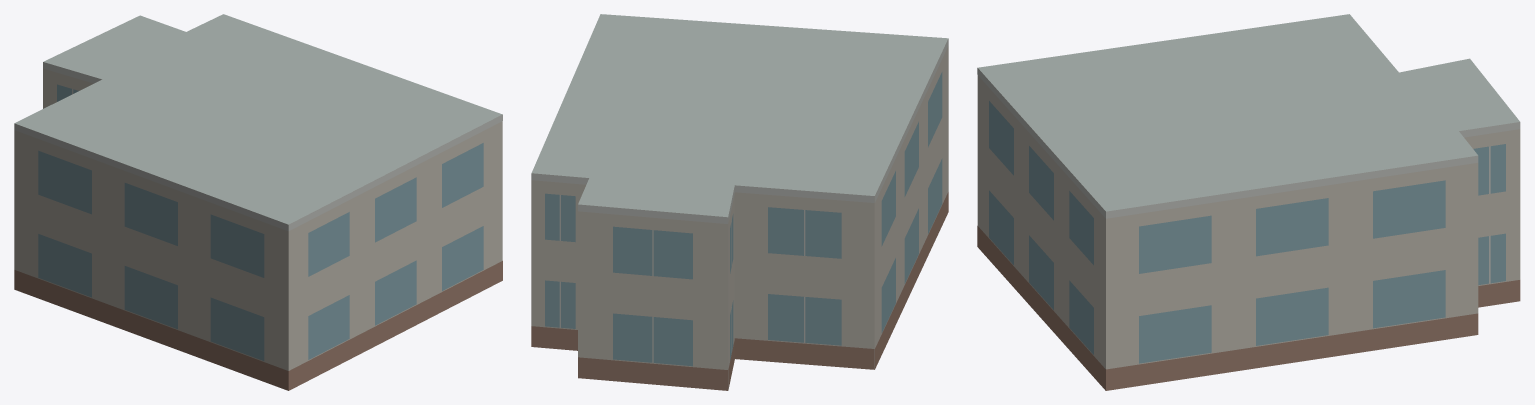
The model's file is survey-upis-32834776.glb.
The picture shows the model from 3 angles, left to right: view 1: azimuth 30°, elevation 25°; view 2: azimuth 150°, elevation 25°; view 3: azimuth 270°, elevation 25°; orthographic projection. The views are drawn at different scales.
Visible parts, largest first — view 1: survey-upis-32834776.tmp; view 2: survey-upis-32834776.tmp; view 3: survey-upis-32834776.tmp.
Part boxes in pixels (bbox=[...]): survey-upis-32834776.tmp: bbox=[14, 14, 502, 390]; survey-upis-32834776.tmp: bbox=[531, 14, 948, 390]; survey-upis-32834776.tmp: bbox=[977, 14, 1520, 390].
Bounding box in the file's own units: 14.43 × 6.1 × 16.75.
